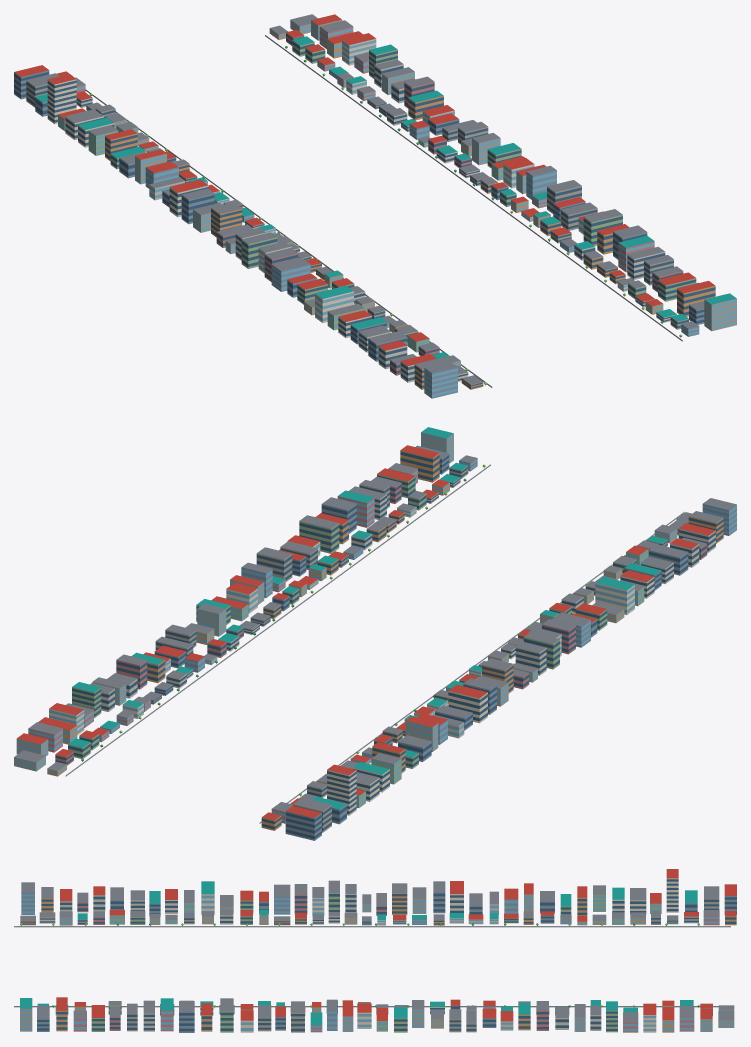
The model's file is BordeCiudad.fbx.
The picture shows the model from 3 angles, top to bottom: view 1: azimuth 30°, elevation 25°; view 2: azimuth 150°, elevation 25°; view 3: azimuth 270°, elevation 25°; orthographic projection. The views are drawn at different scales.
Parts seen in each view (by area): view 1: BordeCiudad; view 2: BordeCiudad; view 3: BordeCiudad.
Boxes of the visible parts, x1,y1,x2,y2 form: BordeCiudad: [14, 14, 736, 398]; BordeCiudad: [14, 427, 736, 840]; BordeCiudad: [14, 869, 736, 1032].
Size of the model in its own units: 863 by 105 by 2017.
1 material, 1 textured.
